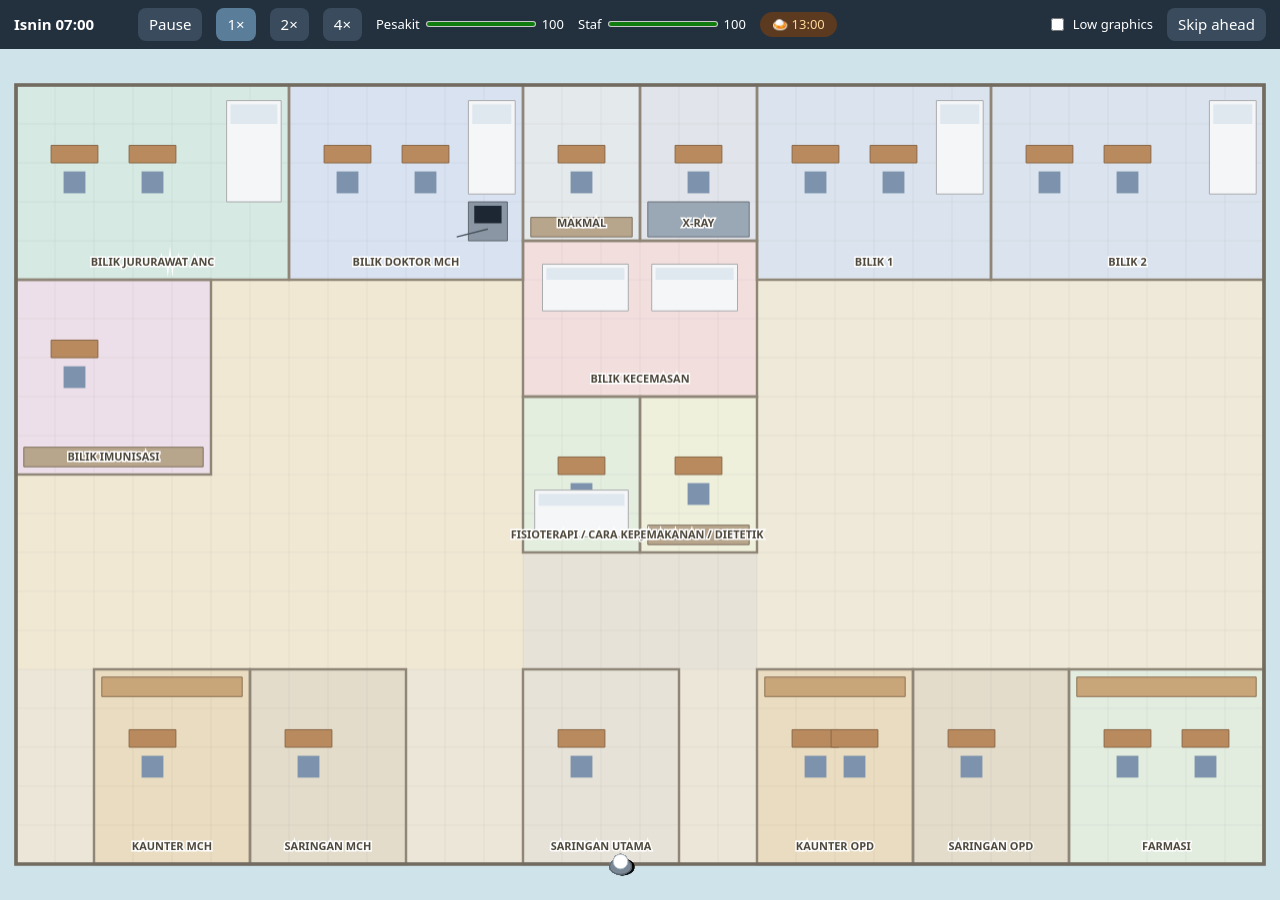
Test: Skip ahead stops at a popup, which shows over the clinic; answering it lets the day go on
This screenshot has width=1280, height=900.
Click the button "Skip ahead".
click(1216, 24)  # box [1167,8,1266,40]
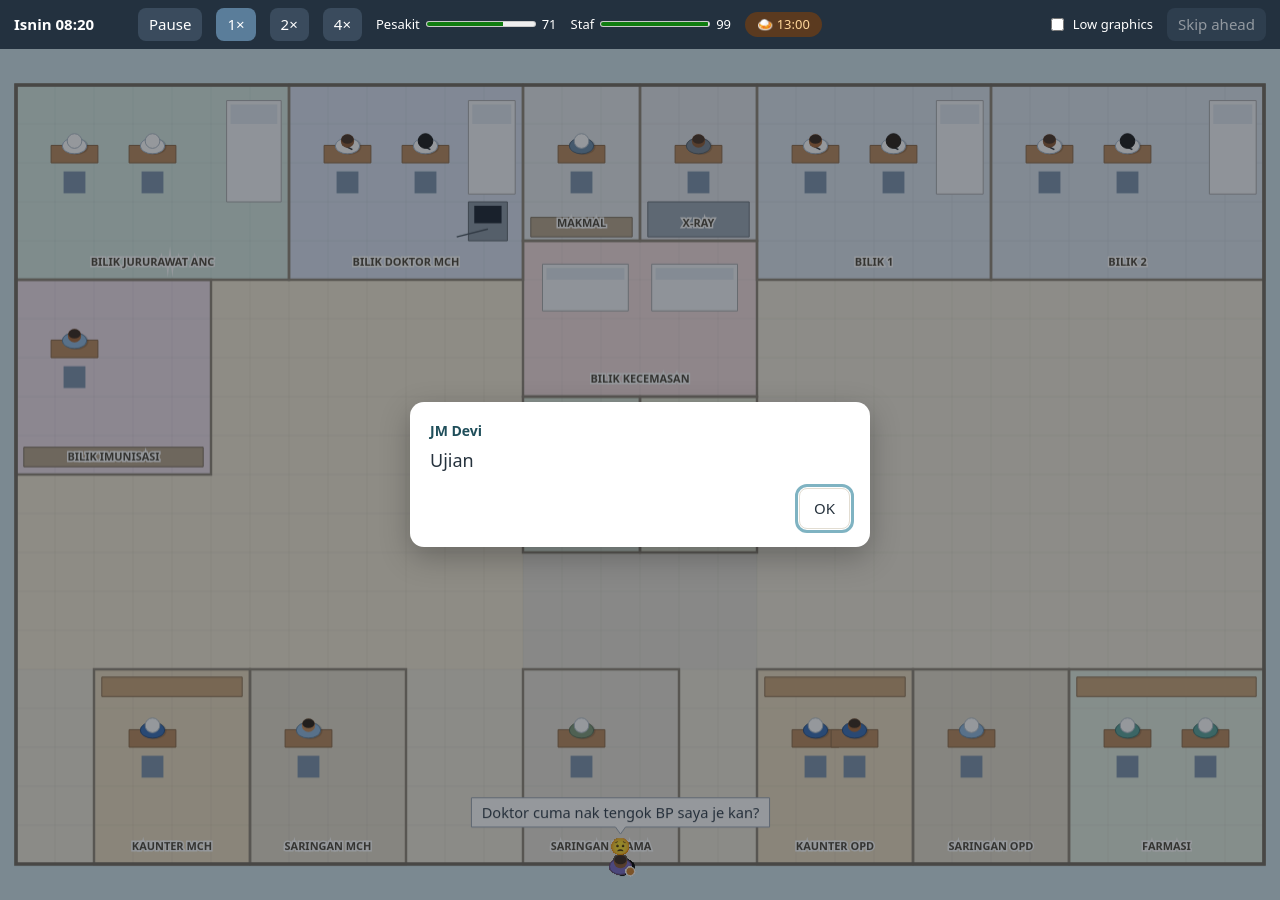
Now the button "Skip ahead" is disabled, box [1167,8,1266,40]
Click the button "OK".
click(824, 508)  # box [799,488,850,528]
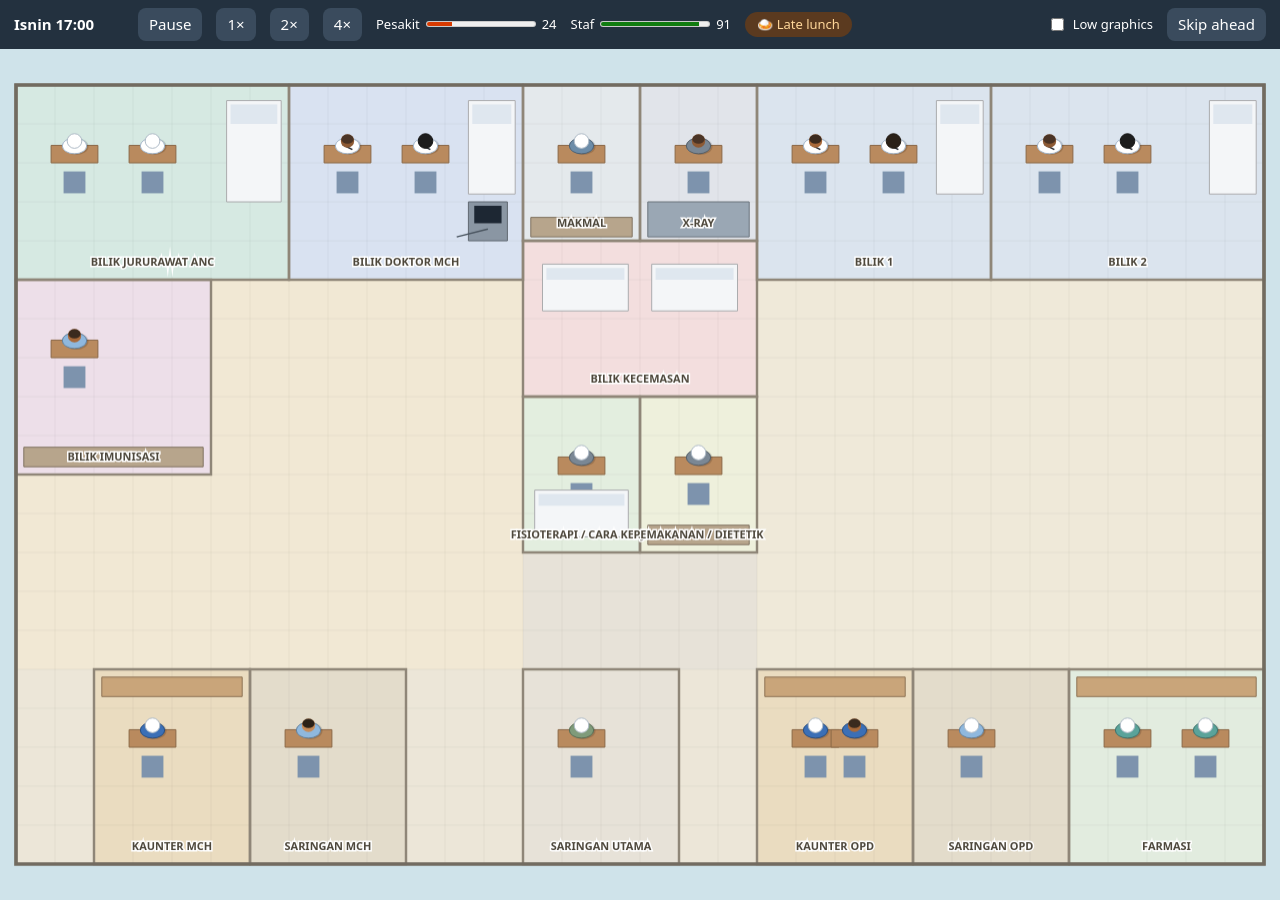
Now the dialog is gone
